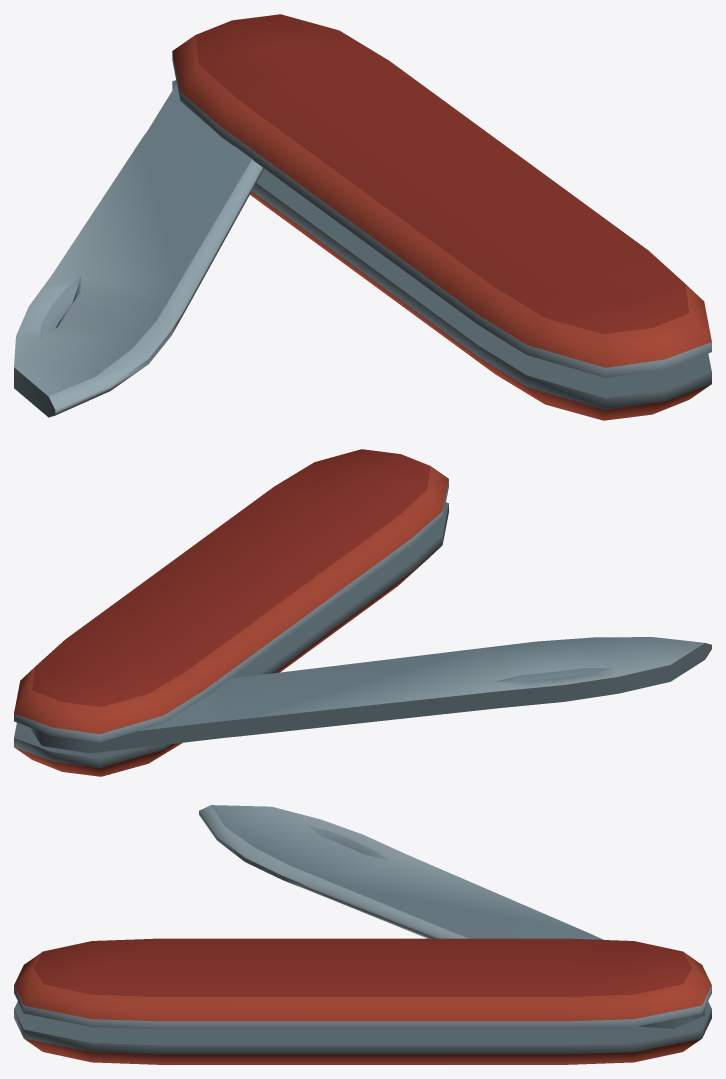
Rendered from human-tools-pocket-knife_v1.fbx.
3 renders of one model, top to bottom at view 1: azimuth 30°, elevation 25°; view 2: azimuth 150°, elevation 25°; view 3: azimuth 270°, elevation 25°, orthographic. The views are drawn at different scales.
Visible parts, largest first — view 1: Pocket Knife; view 2: Pocket Knife; view 3: Pocket Knife.
Part boxes in pixels (left/top/right/bottom): Pocket Knife: left=14, top=14, right=711, bottom=420; Pocket Knife: left=14, top=449, right=711, bottom=776; Pocket Knife: left=14, top=805, right=711, bottom=1064.
Size of the model in its own units: 0.0759 by 0.0107 by 0.1.
